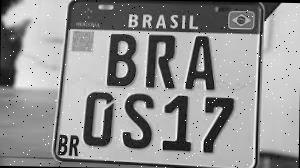placa_mercosul: (55, 0, 263, 168)
